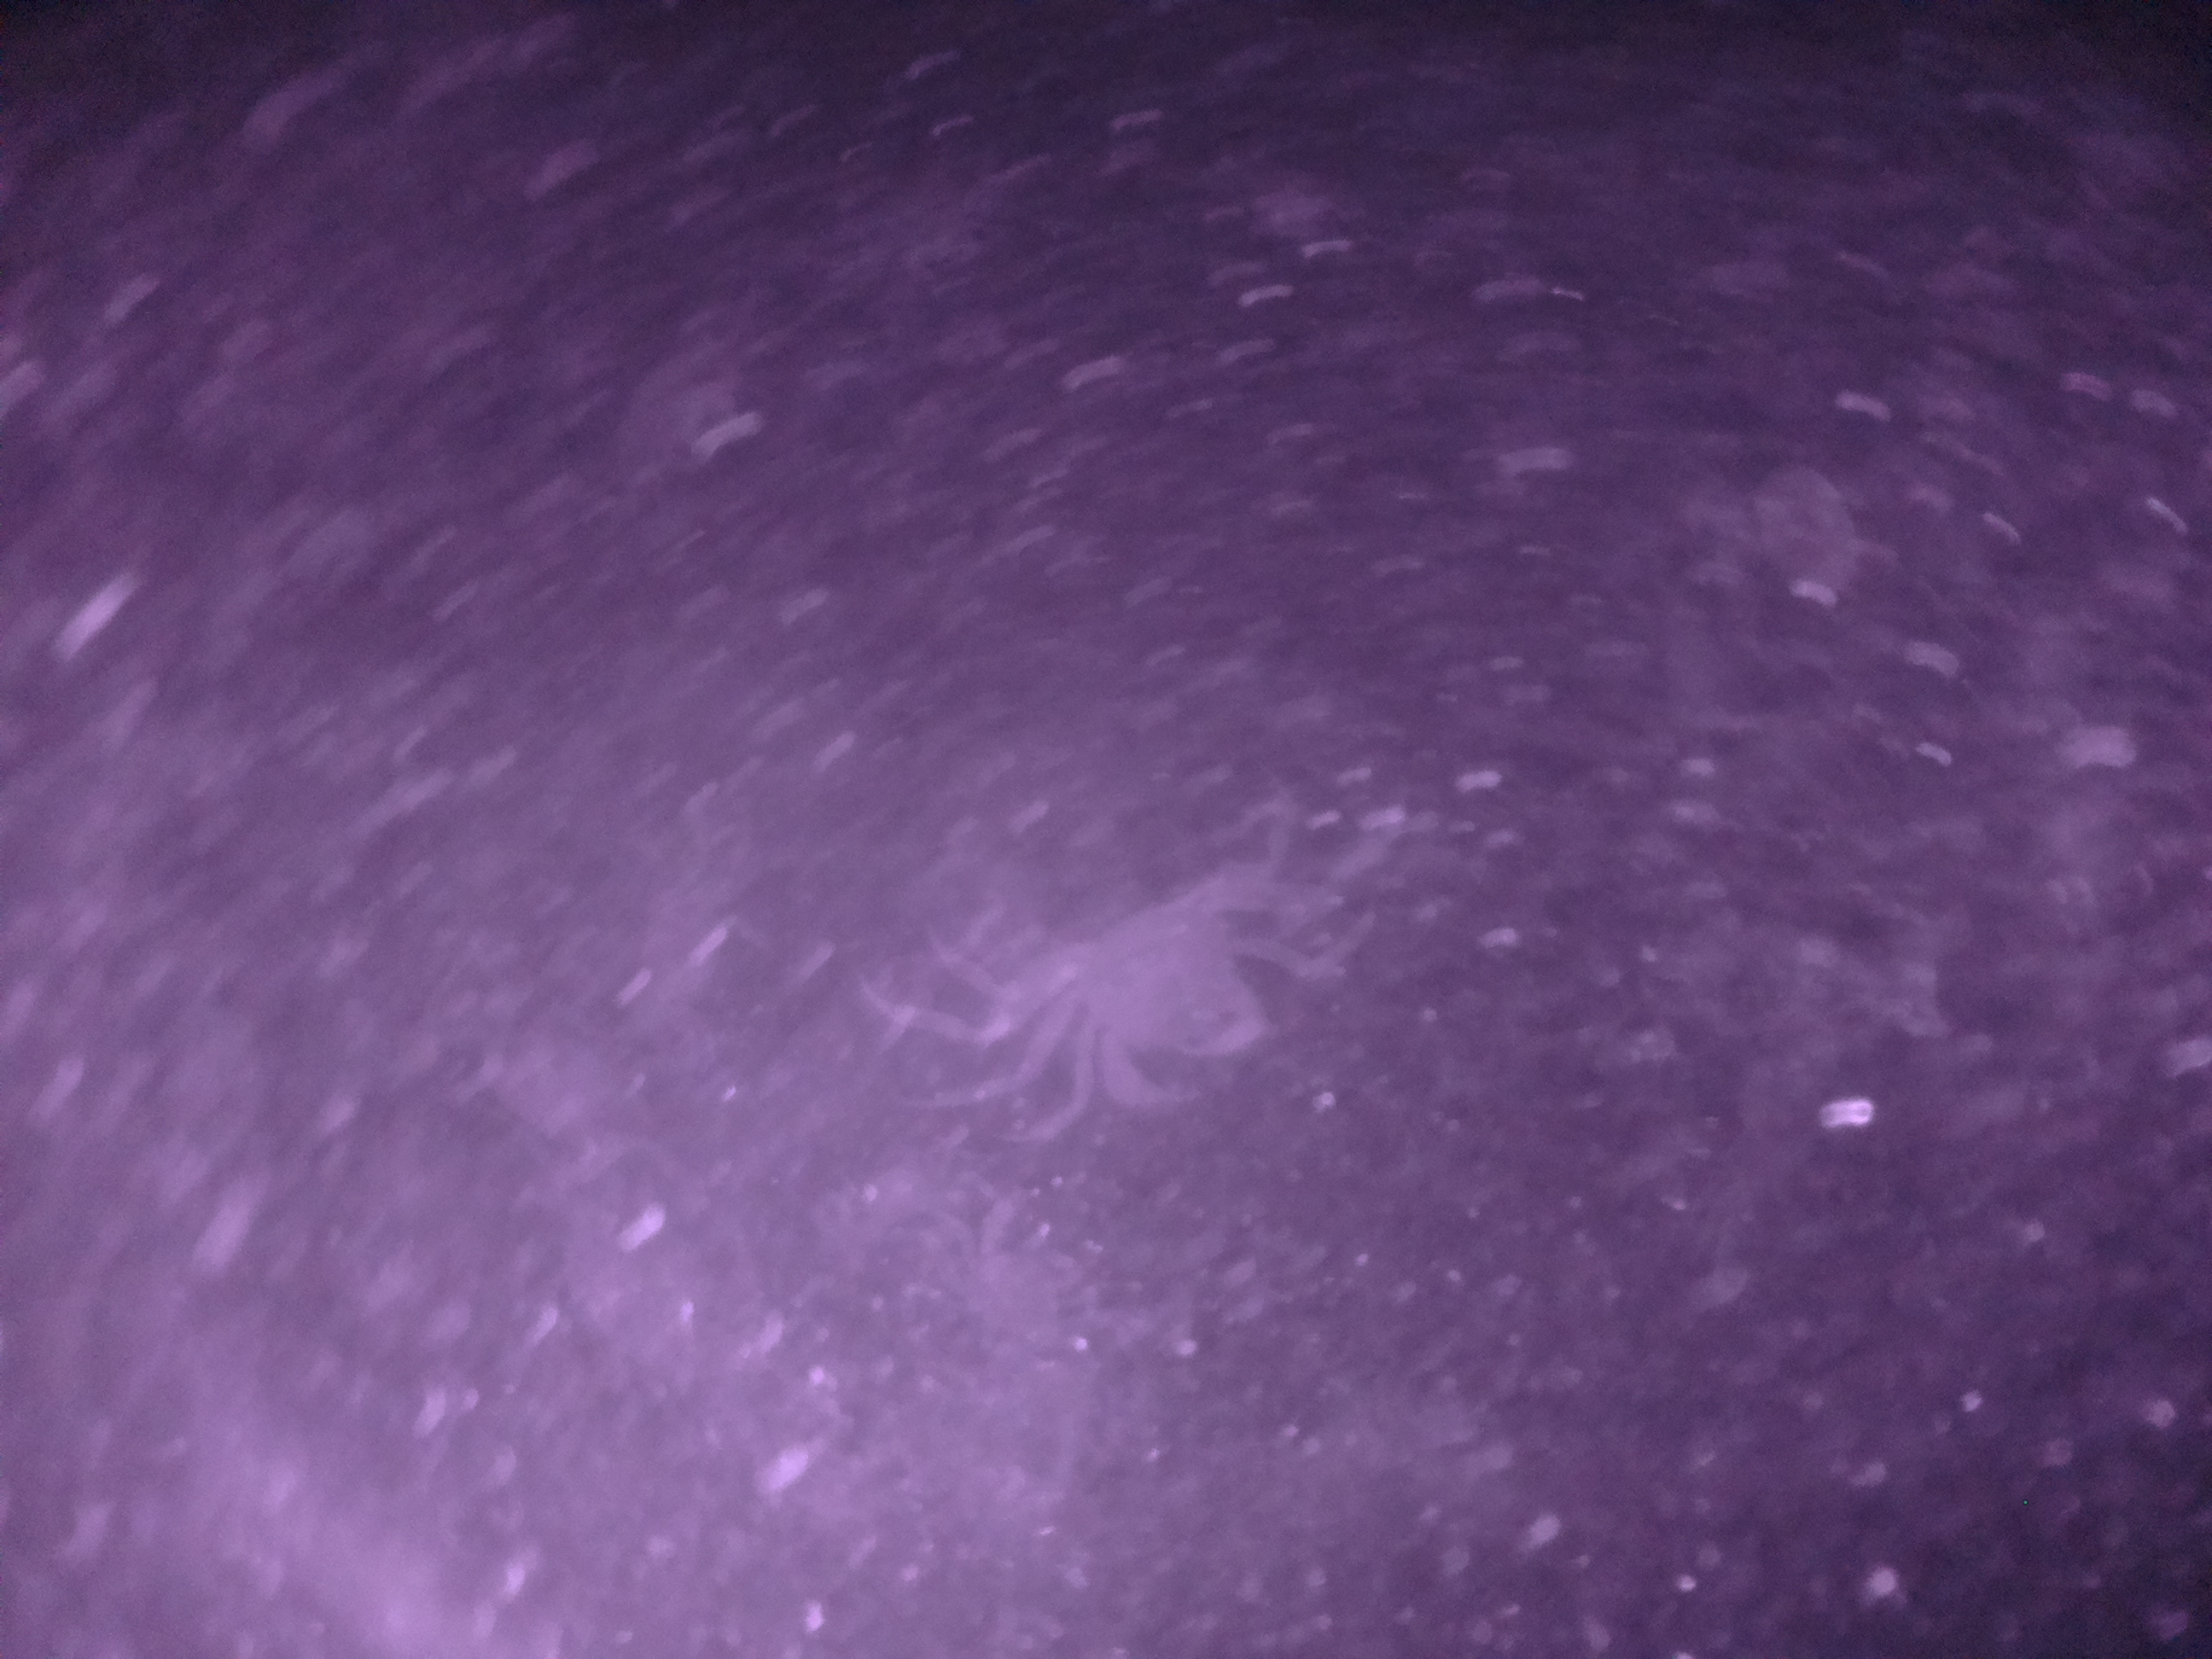Crab: (998, 833, 1310, 1127)
